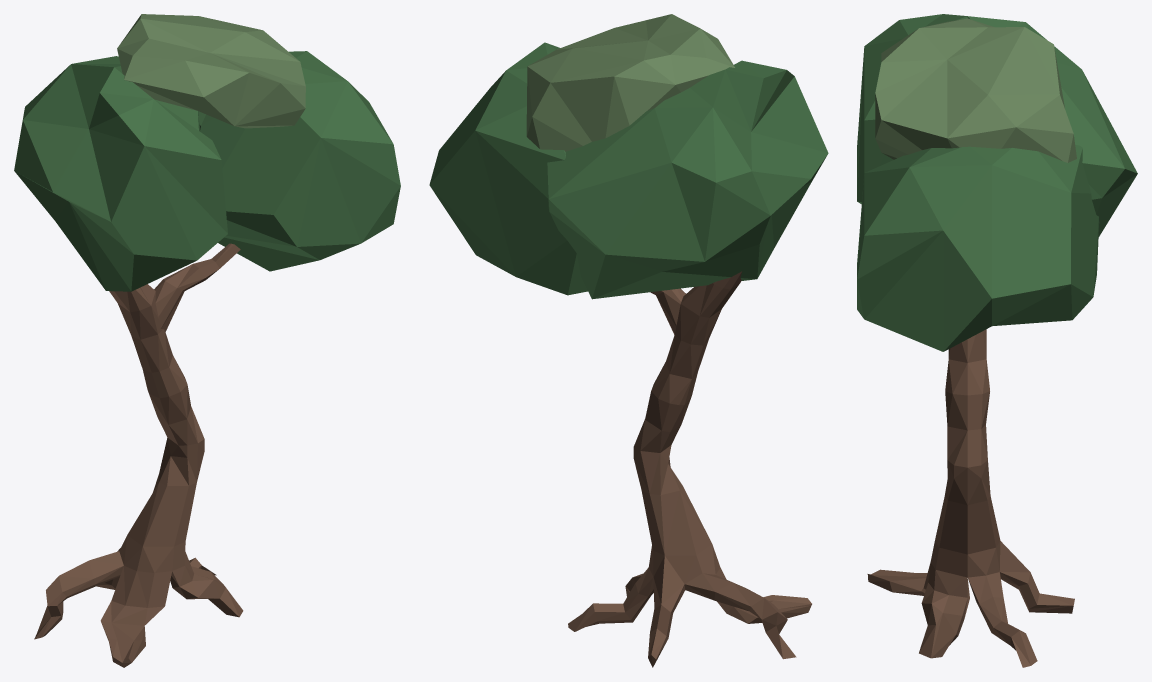
The model's file is _tree_4.fbx.
3 renders of one model, left to right at view 1: azimuth 30°, elevation 25°; view 2: azimuth 150°, elevation 25°; view 3: azimuth 270°, elevation 25°, orthographic. The views are drawn at different scales.
Visible parts, largest first — view 1: tree_4; view 2: tree_4; view 3: tree_4.
Part boxes in pixels (bbox=[...]): tree_4: bbox=[14, 14, 400, 667]; tree_4: bbox=[429, 14, 828, 667]; tree_4: bbox=[857, 14, 1137, 667].
Size of the model in its own units: 337 by 535 by 226.
